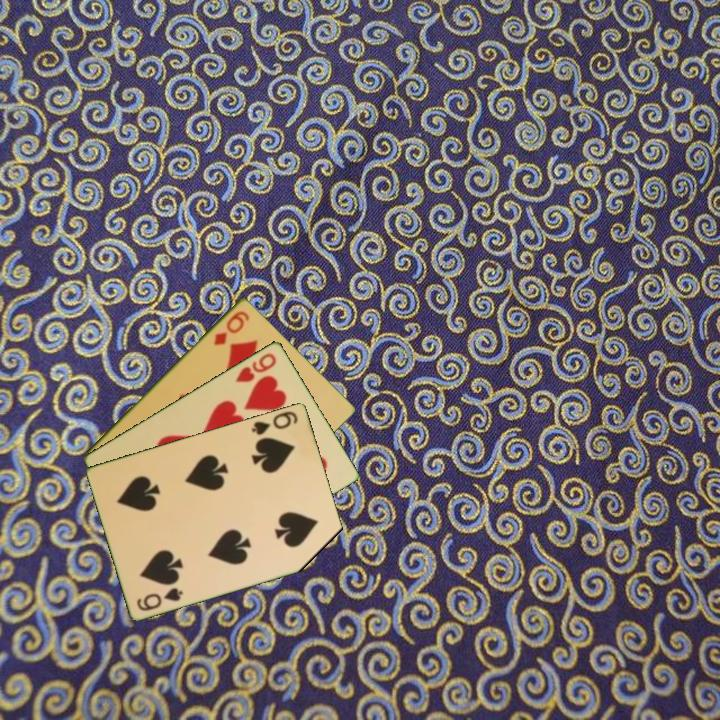6d: (210, 307, 252, 348)
6s: (248, 407, 301, 438), (133, 584, 186, 613)
9h: (232, 349, 279, 385)
